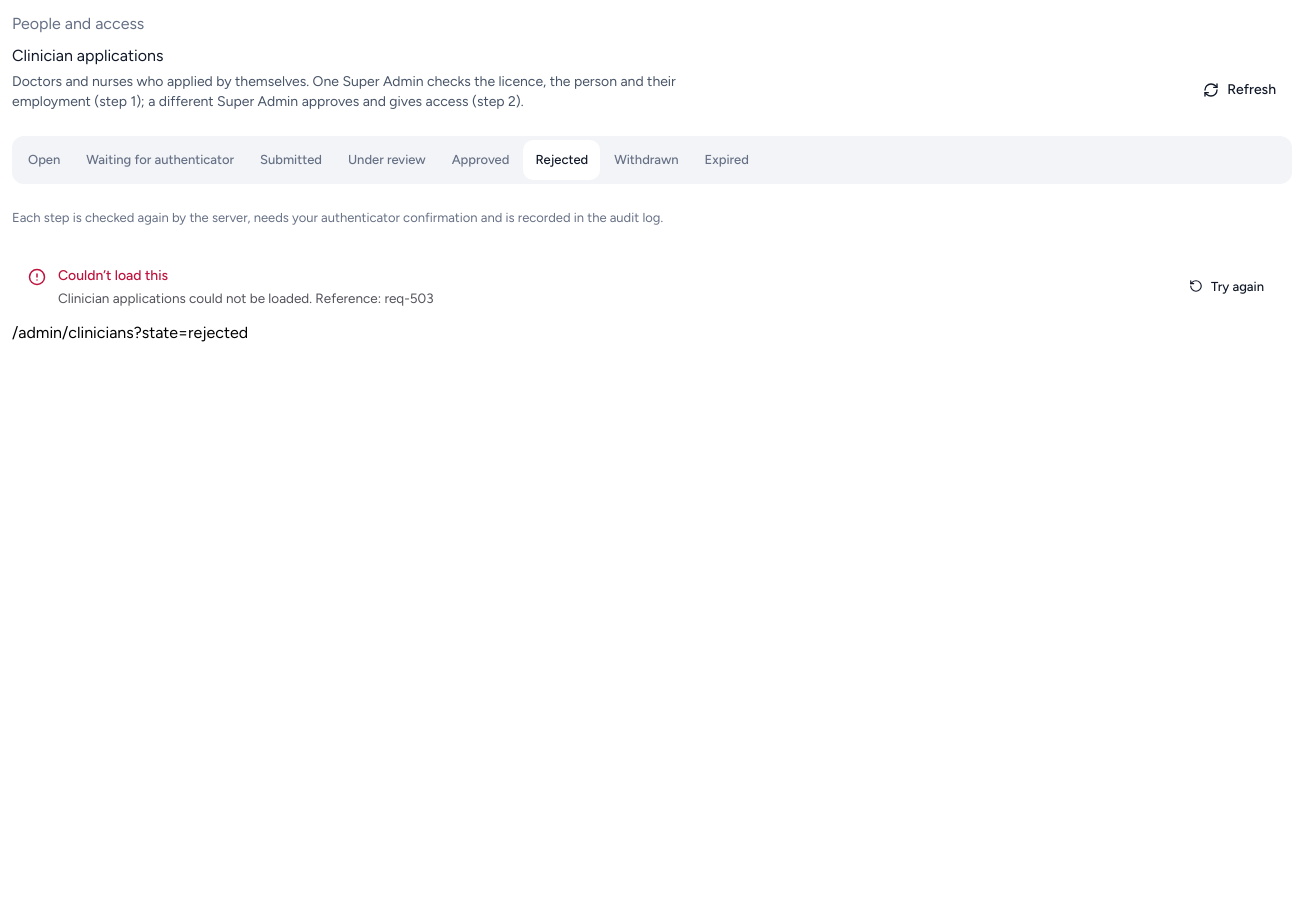
it: clinician verification queue (A1) › opens a linked state, keeps a retry after an outage, and says when a list position is refused
The width and height of the screenshot is (1304, 912).
Expected: the text "Couldn’t load this" is shown, [58, 266, 168, 284]
Expected: the message shows "Clinician applications could not be loaded. Reference: req-503", [58, 290, 434, 306]
Click the button "Try again": (1226, 286) [1177, 268, 1276, 304]
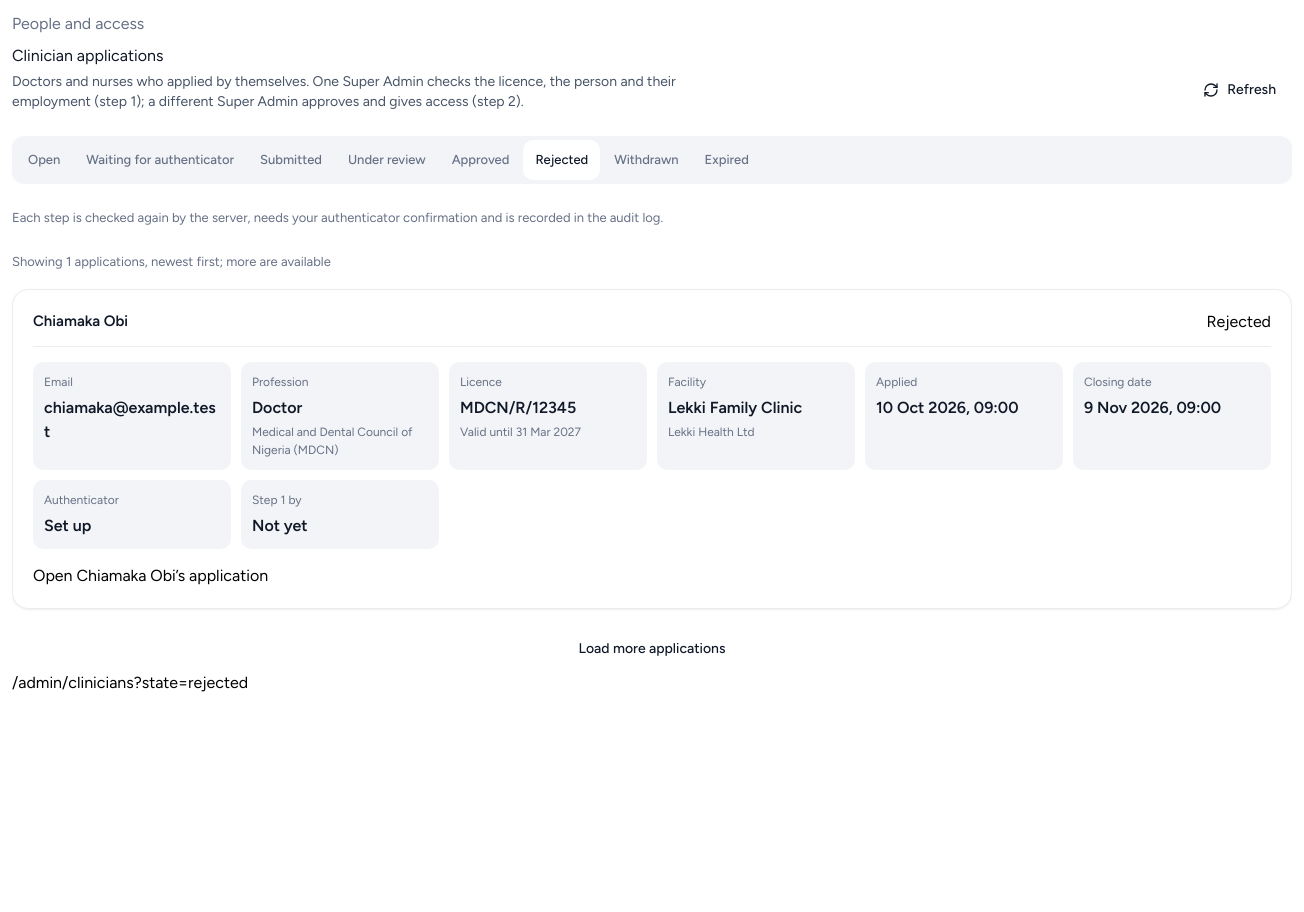
Expected: the text "Showing 1 applications, newest first; more are available" is shown, [12, 254, 331, 268]
Click the button "Load more applications": (652, 649) [12, 627, 1292, 671]
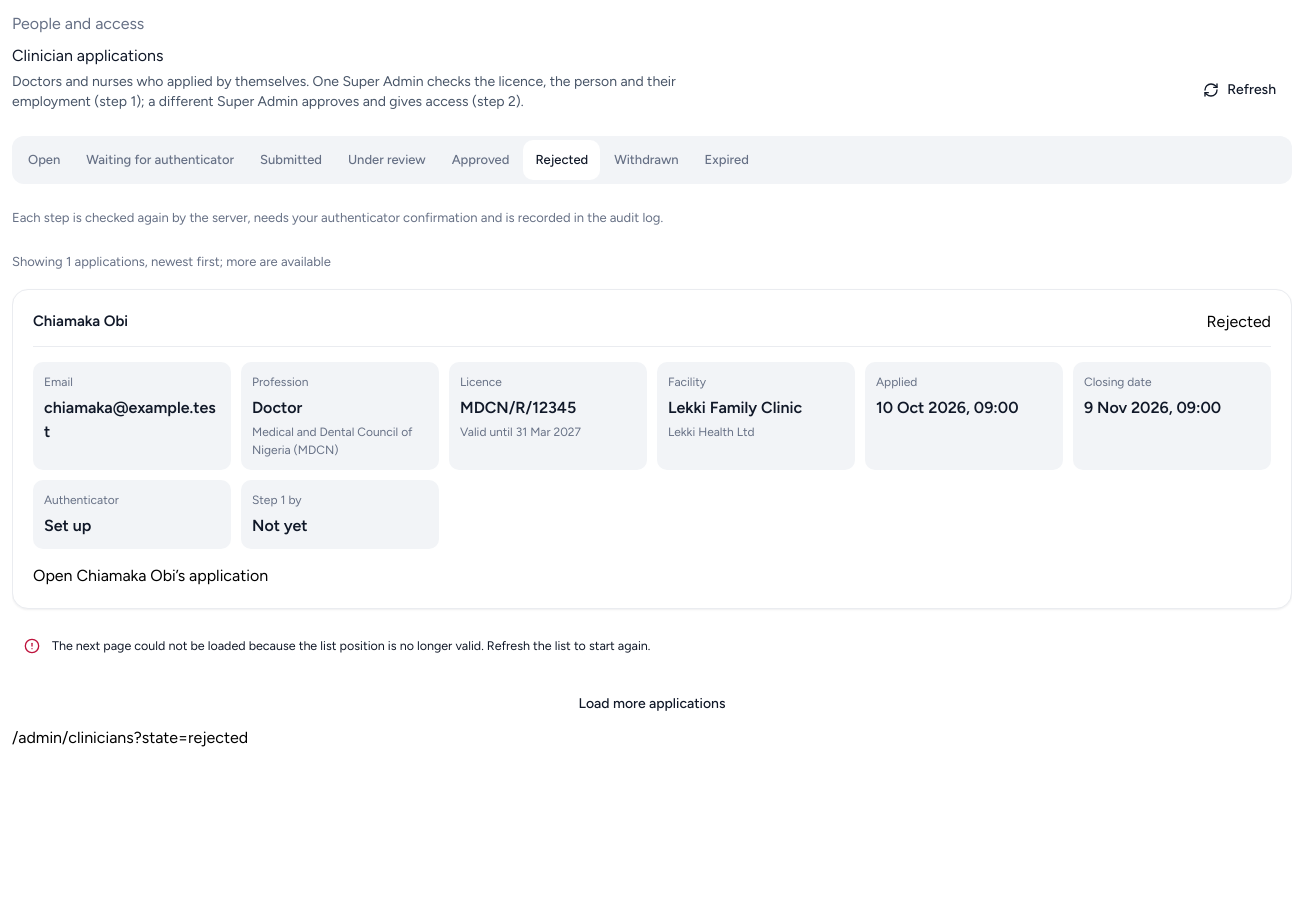
Expected: the message shows "list position is no longer valid", [52, 638, 650, 653]
